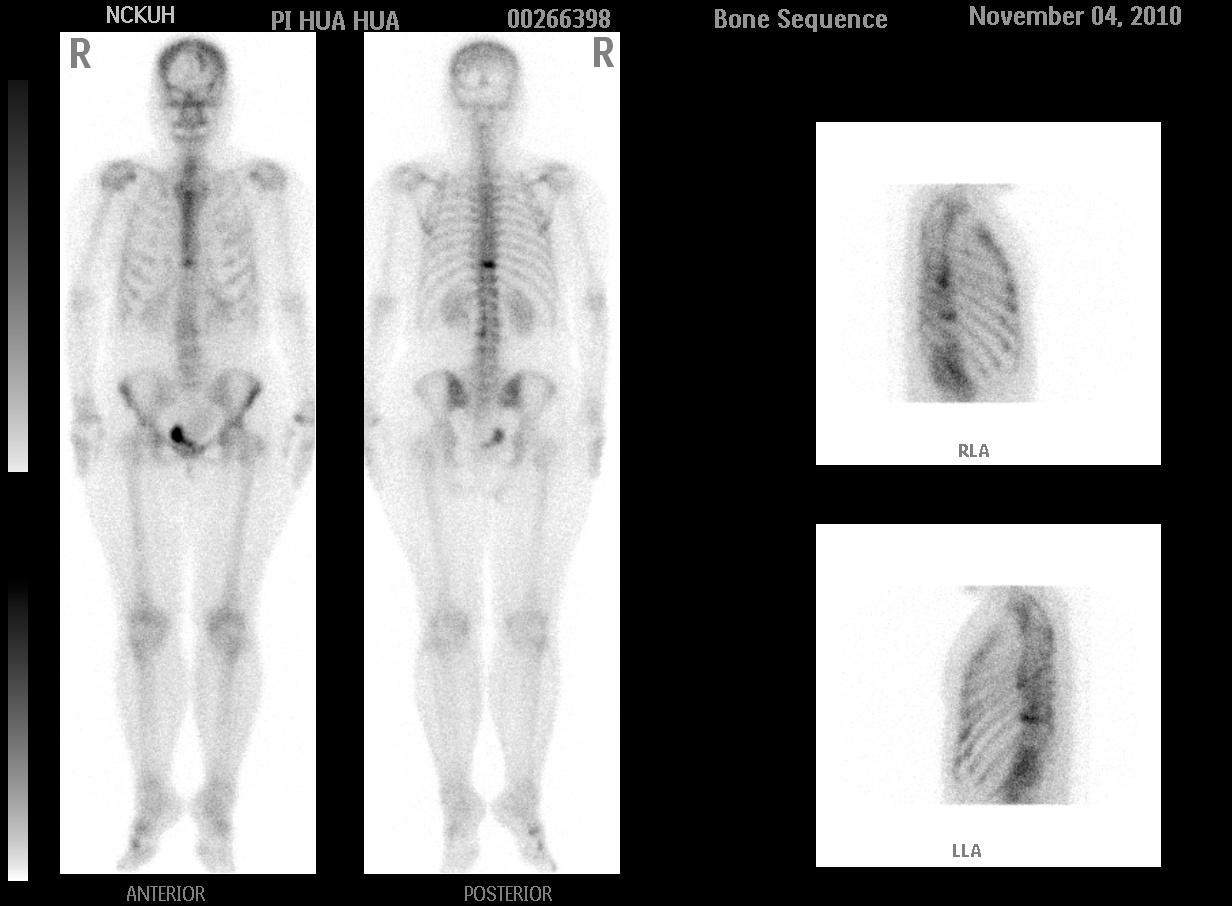person: (57, 29, 621, 876)
